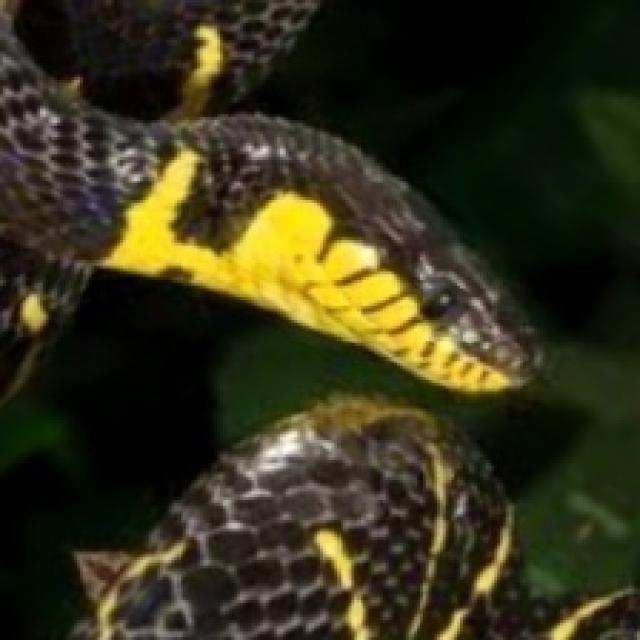mangrove cat snake: (0, 0, 531, 394), (75, 399, 640, 640)
